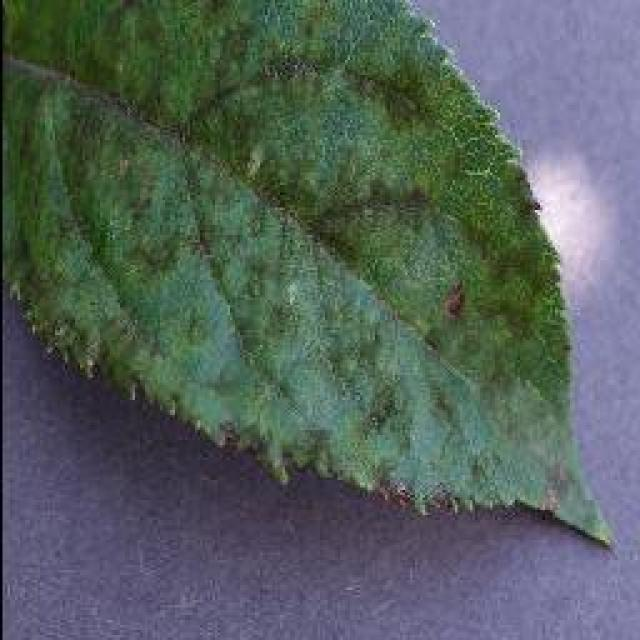apple scab disease: (0, 0, 615, 552)
